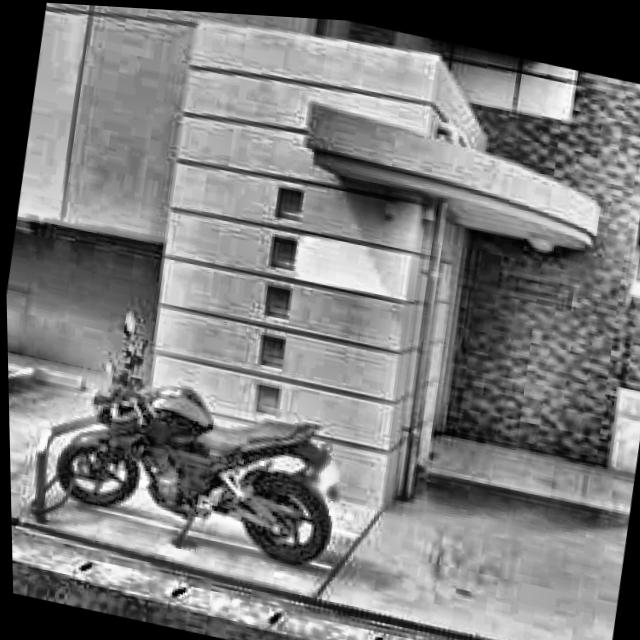motorcycle: (33, 290, 358, 595)
